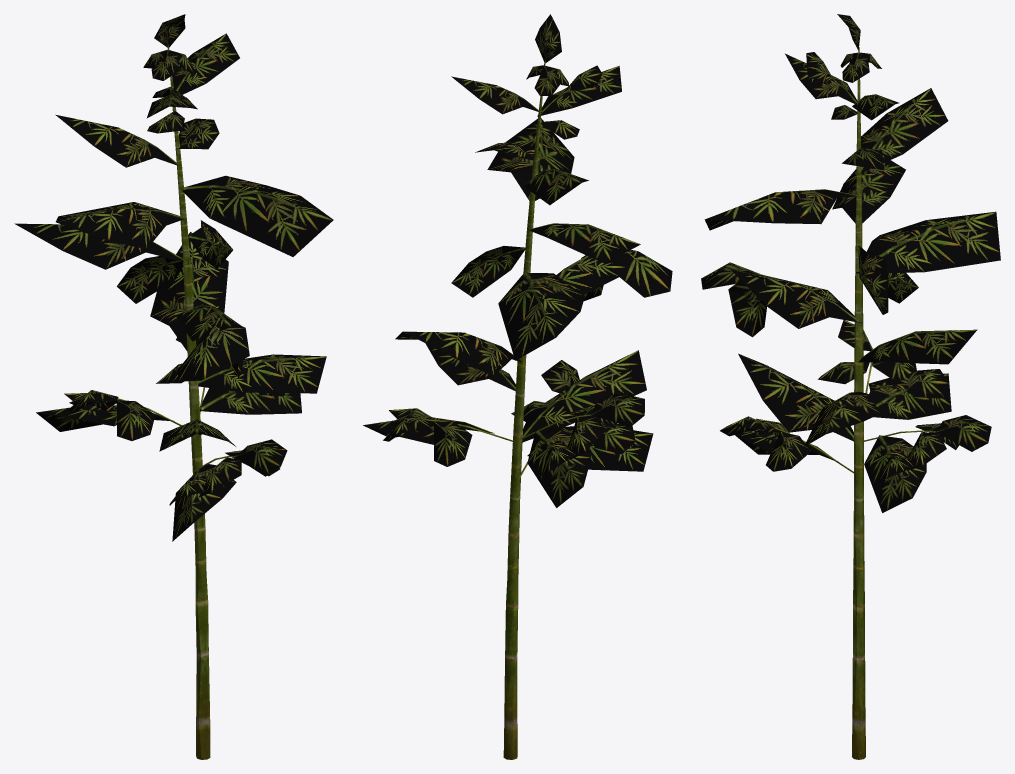
The model's file is bg_anh_tree_bamboo01_sm_ksy.FBX.
3 renders of one model, left to right at view 1: azimuth 30°, elevation 25°; view 2: azimuth 150°, elevation 25°; view 3: azimuth 270°, elevation 25°, orthographic. The views are drawn at different scales.
Parts seen in each view (by area): view 1: bg_anh_tree_bamboo01_sm_ksy; view 2: bg_anh_tree_bamboo01_sm_ksy; view 3: bg_anh_tree_bamboo01_sm_ksy.
Part boxes in pixels (bbox=[...]): bg_anh_tree_bamboo01_sm_ksy: bbox=[14, 14, 333, 759]; bg_anh_tree_bamboo01_sm_ksy: bbox=[363, 14, 672, 759]; bg_anh_tree_bamboo01_sm_ksy: bbox=[701, 14, 1000, 759].
Bounding box in the file's own units: 359 × 985 × 367.
